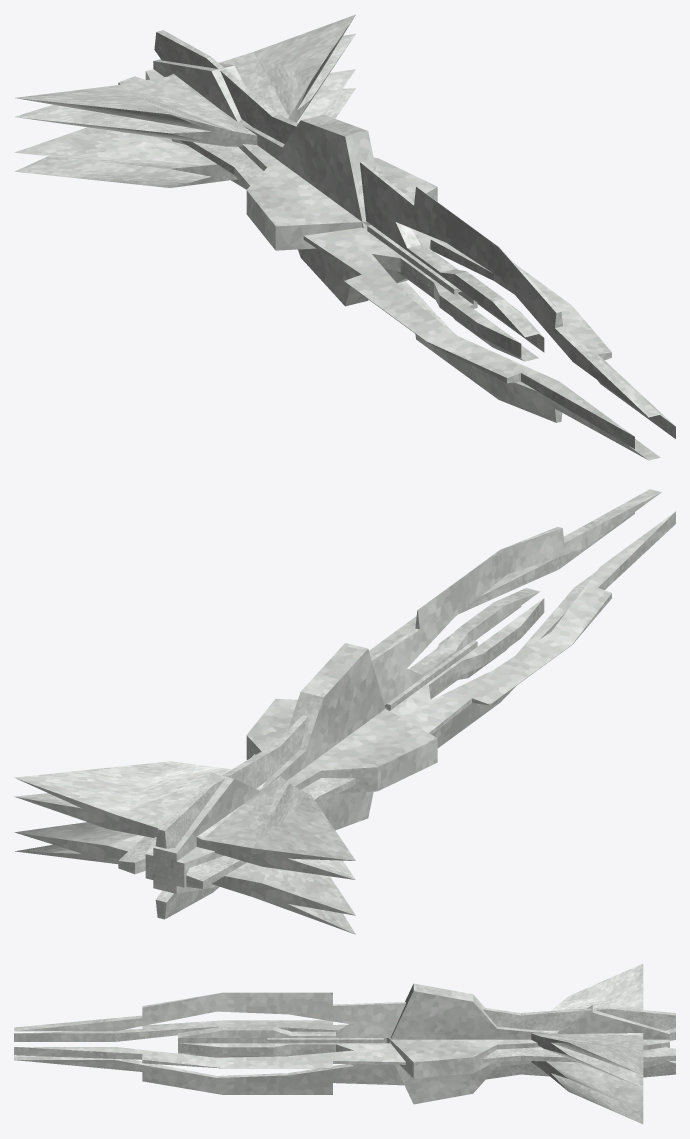
File: yavok.obj
3 views of the same model, one above another, from view 1: azimuth 30°, elevation 25°; view 2: azimuth 150°, elevation 25°; view 3: azimuth 270°, elevation 25° (orthographic). The views are drawn at different scales.
Bounding box in the file's own units: 8.86 × 4.2 × 22.2.
